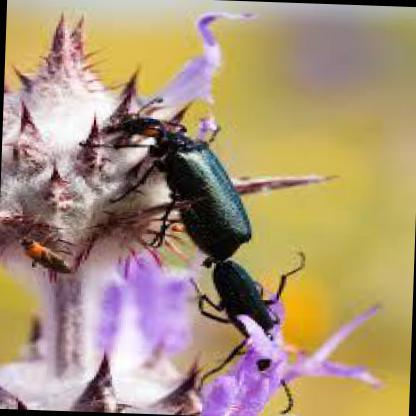blister beetle: (107, 116, 252, 266)
